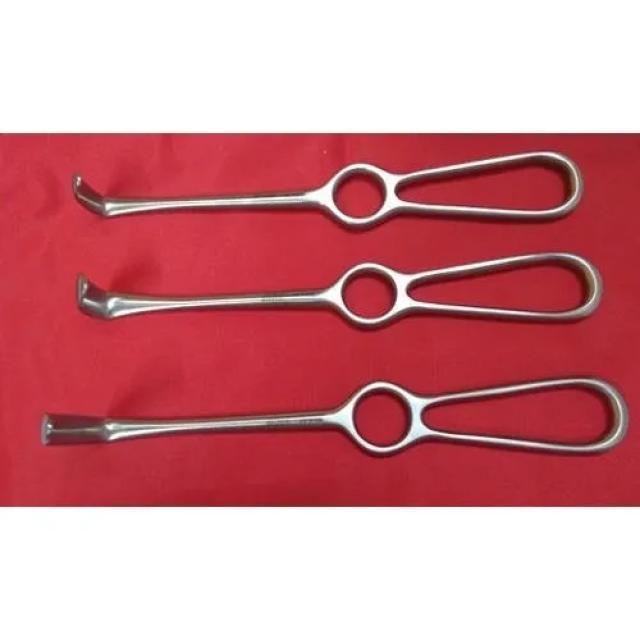Langenbach Retractor: (34, 363, 634, 475), (56, 138, 601, 234), (65, 245, 612, 336)
